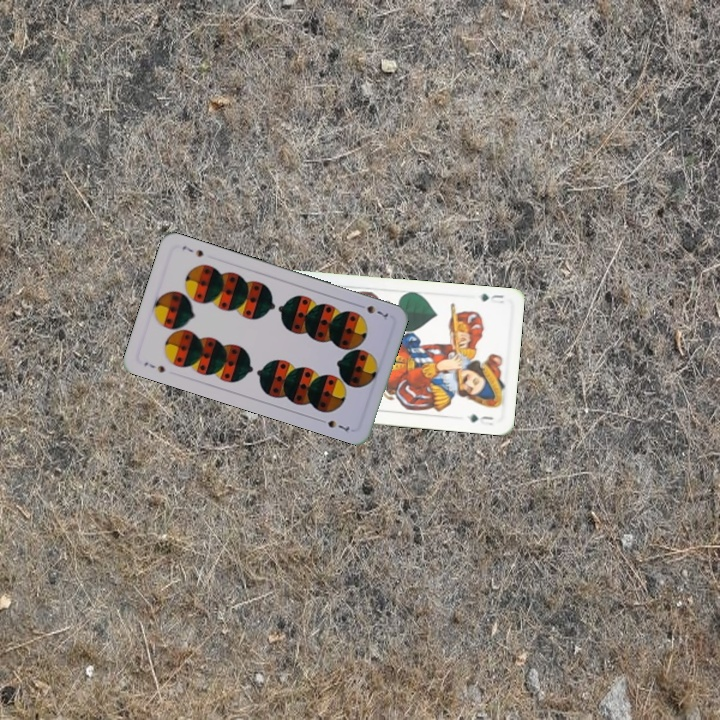GU: (474, 290, 507, 306)
S7: (353, 300, 391, 320), (140, 358, 167, 375)
